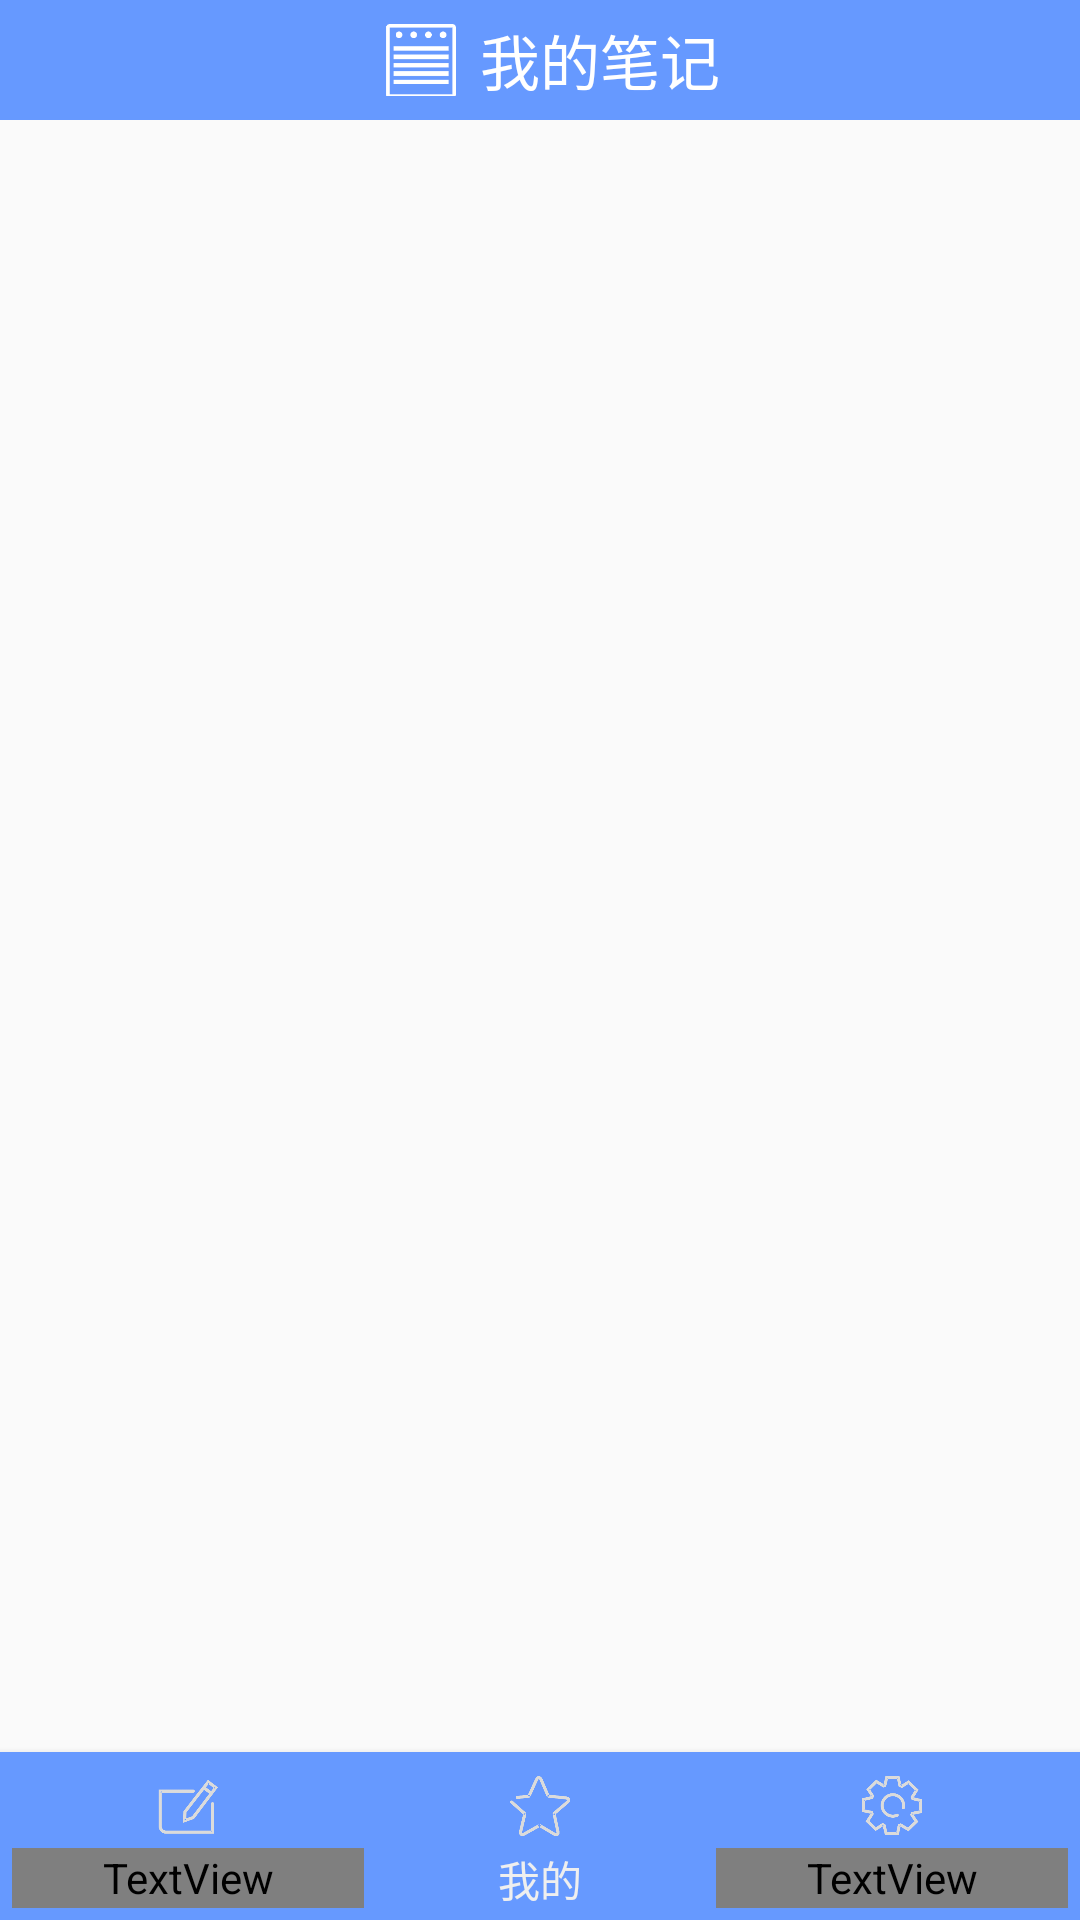

Icons on this 1080px x 1920px Android screen, each with its box as (x1, y1, x2, y2):
note: (386, 24, 456, 96)
